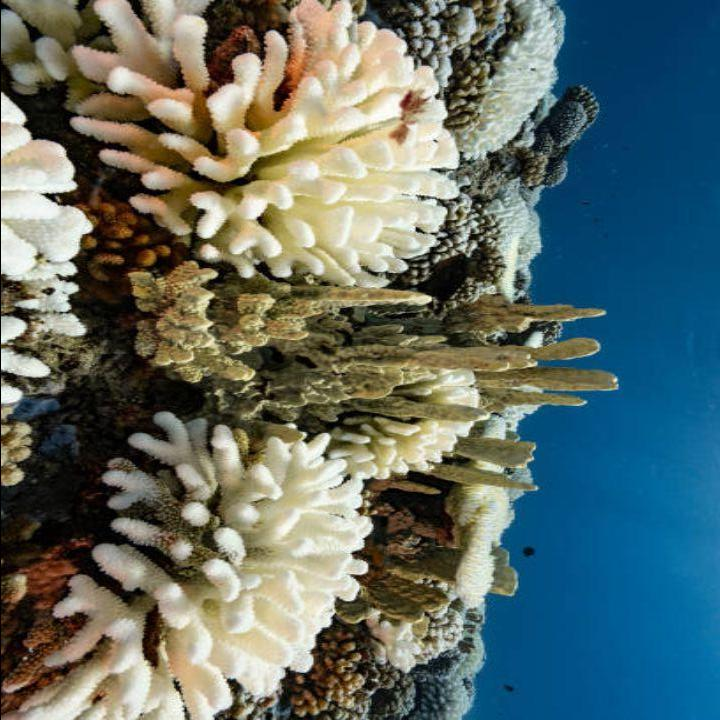Bleached disease: (64, 24, 563, 719)
